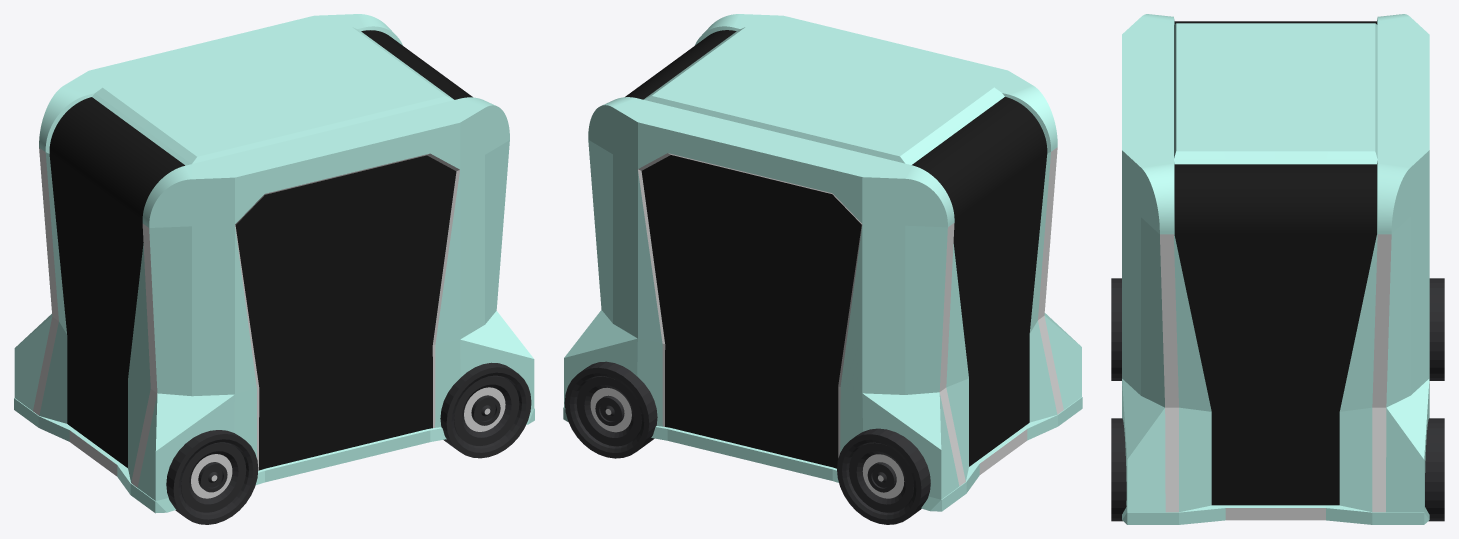
Rendered from vehicle1 og.fbx.
3 views of the same model, side by side, from view 1: azimuth 30°, elevation 25°; view 2: azimuth 150°, elevation 25°; view 3: azimuth 270°, elevation 25° (orthographic). The views are drawn at different scales.
Parts seen in each view (by area): view 1: Vehicle 1.002, f l wheel.002, b l wheel.002; view 2: Vehicle 1.002, f r wheel.002, b r wheel.002; view 3: Vehicle 1.002, b r wheel.002, f r wheel.002, b l wheel.002, f l wheel.002.
Boxes of the visible parts, x1=… form: Vehicle 1.002: x1=14, y1=14, x2=534, y2=513; f l wheel.002: x1=166, y1=430, x2=258, y2=524; b l wheel.002: x1=440, y1=362, x2=531, y2=458; Vehicle 1.002: x1=563, y1=14, x2=1082, y2=511; f r wheel.002: x1=837, y1=428, x2=930, y2=524; b r wheel.002: x1=564, y1=361, x2=657, y2=458; Vehicle 1.002: x1=1122, y1=14, x2=1429, y2=524; b r wheel.002: x1=1425, y1=418, x2=1444, y2=521; f r wheel.002: x1=1429, y1=278, x2=1444, y2=380; b l wheel.002: x1=1111, y1=418, x2=1126, y2=521; f l wheel.002: x1=1111, y1=278, x2=1121, y2=380.
Bounding box in the file's own units: 241 × 207 × 174.
